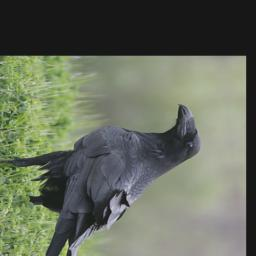Crow: (0, 102, 214, 256)
